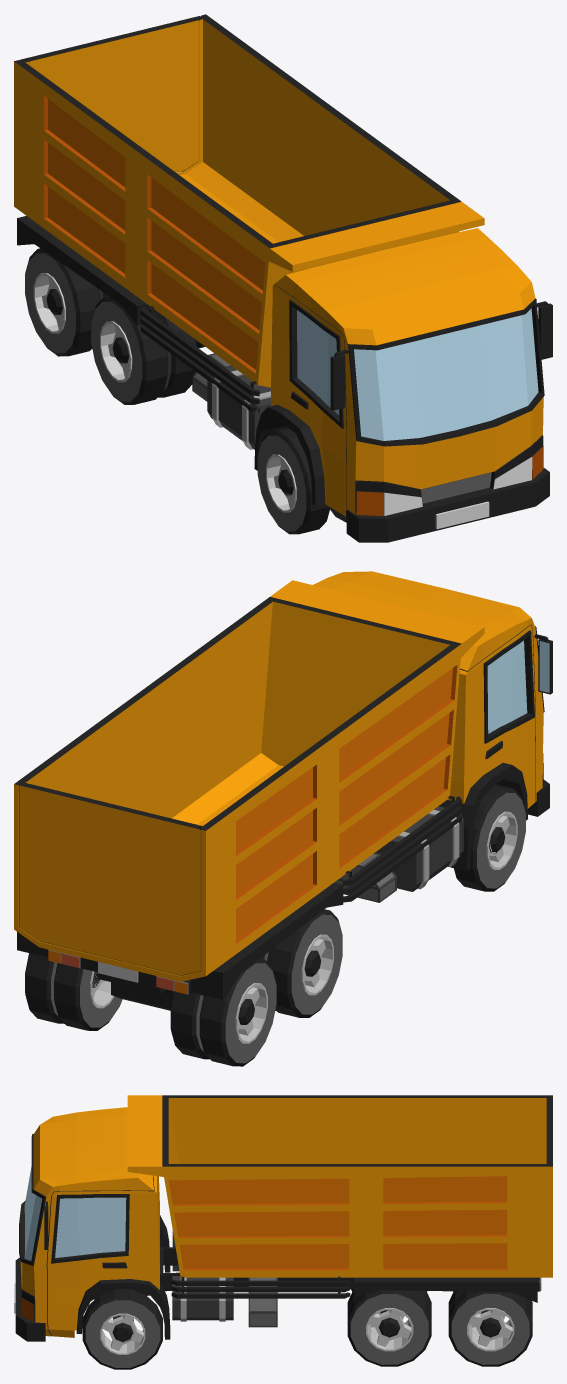
Rendered from DumpTruck.fbx.
3 views of the same model, one above another, from view 1: azimuth 30°, elevation 25°; view 2: azimuth 150°, elevation 25°; view 3: azimuth 270°, elevation 25° (orthographic). The views are drawn at different scales.
Parts seen in each view (by area): view 1: DumpTruck, RearWheels, RearWheels.001, FrontWheels; view 2: DumpTruck, RearWheels.001, RearWheels, FrontWheels; view 3: DumpTruck, RearWheels, RearWheels.001, FrontWheels.
Boxes of the visible parts, x1,y1,x2,y2 form: DumpTruck: [14, 14, 552, 542]; RearWheels: [91, 296, 196, 404]; RearWheels.001: [25, 248, 108, 356]; FrontWheels: [257, 427, 329, 534]; DumpTruck: [14, 571, 552, 1010]; RearWheels.001: [25, 953, 276, 1066]; RearWheels: [261, 909, 342, 1017]; FrontWheels: [454, 784, 525, 891]; DumpTruck: [14, 1095, 552, 1342]; RearWheels: [347, 1289, 431, 1366]; RearWheels.001: [448, 1291, 532, 1366]; FrontWheels: [82, 1241, 162, 1369].
Bounding box in the file's own units: 284 × 319 × 783.
